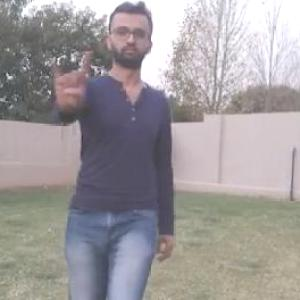takeoff-hand: (43, 43, 92, 116)
